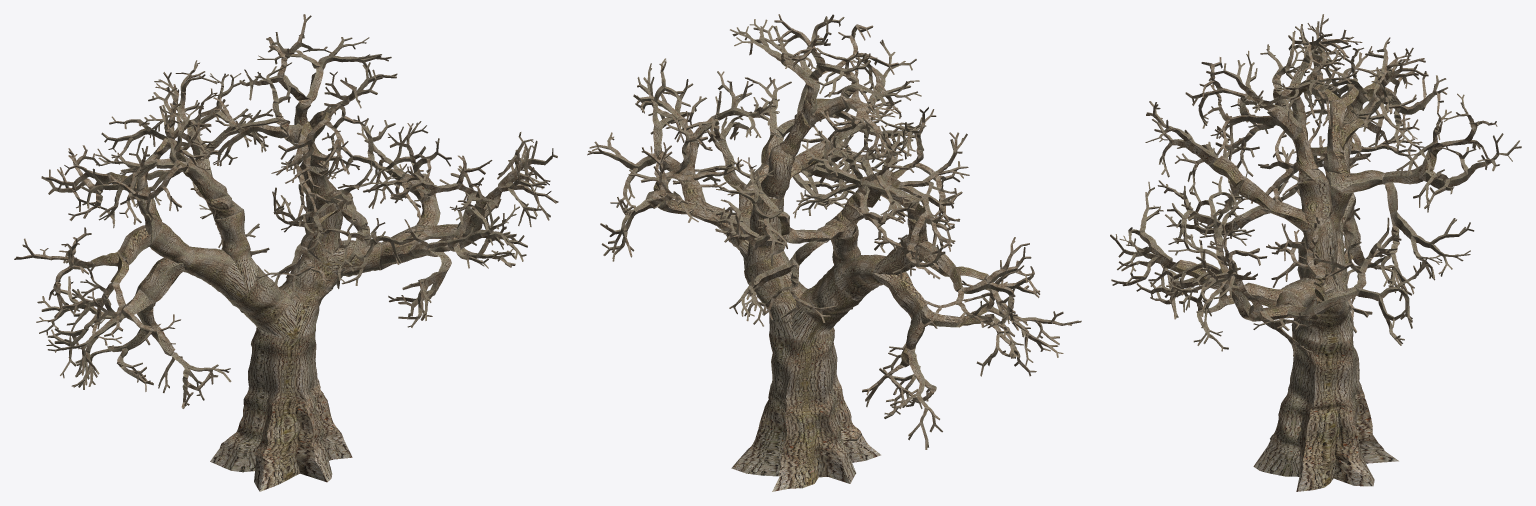
The model's file is oak.glb.
The picture shows the model from 3 angles, left to right: view 1: azimuth 30°, elevation 25°; view 2: azimuth 150°, elevation 25°; view 3: azimuth 270°, elevation 25°; orthographic projection.
Visible parts, largest first — view 1: Object_2; view 2: Object_2; view 3: Object_2.
Part boxes in pixels (bbox=[...]): Object_2: bbox=[14, 14, 558, 491]; Object_2: bbox=[587, 14, 1081, 491]; Object_2: bbox=[1110, 14, 1521, 491].
Size of the model in its own units: 5.34 by 4.63 by 3.87.
1 material, 1 textured.
